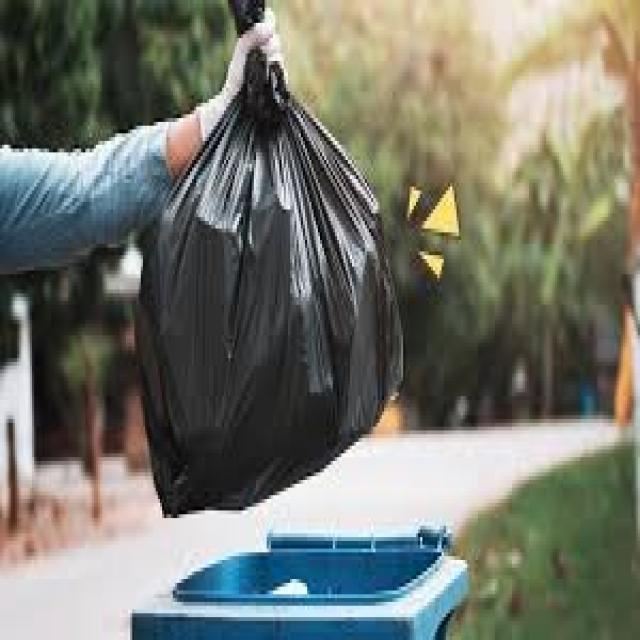Vinyl: (138, 0, 406, 526)
